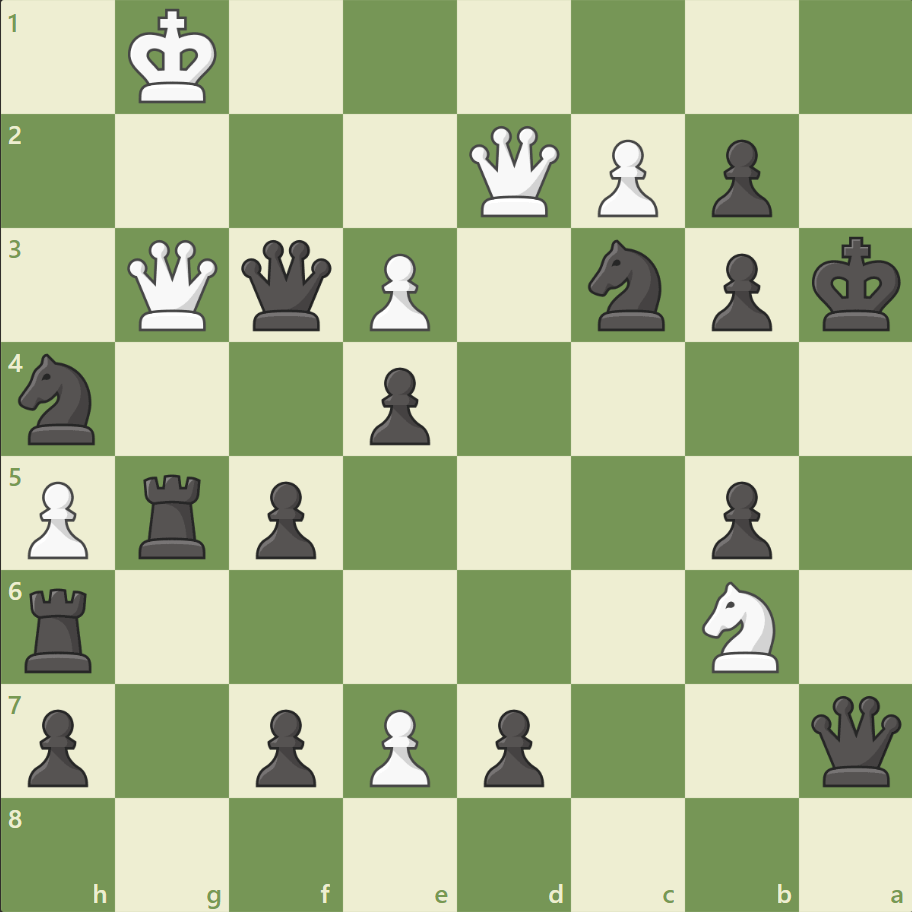K: (124, 4, 224, 112)
N: (692, 575, 789, 677)
P: (20, 473, 95, 564), (361, 700, 435, 791), (361, 246, 435, 337), (588, 132, 662, 223)
Q: (464, 122, 563, 222), (124, 236, 223, 335)
k: (806, 231, 906, 339)
n: (579, 234, 676, 337), (11, 348, 108, 450)
p: (474, 700, 549, 791), (247, 700, 322, 791), (20, 700, 95, 791), (701, 473, 776, 564), (247, 473, 322, 564), (701, 246, 776, 337), (701, 132, 776, 223), (361, 359, 435, 450)
q: (805, 690, 904, 789), (237, 236, 336, 335)
r: (19, 579, 102, 676), (133, 466, 215, 563)
